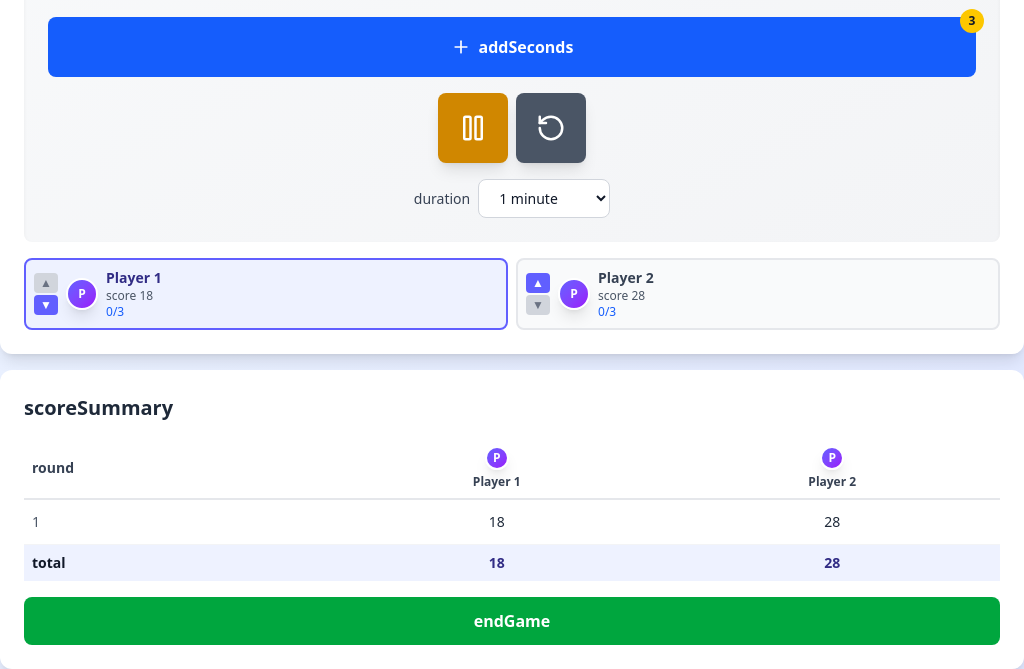
Test: ActiveGameView › closes edit input on Enter key
(page scrolled)
Click on a past score to edit it
Click the text "18".
click(497, 522)  # box [489, 512, 505, 531]
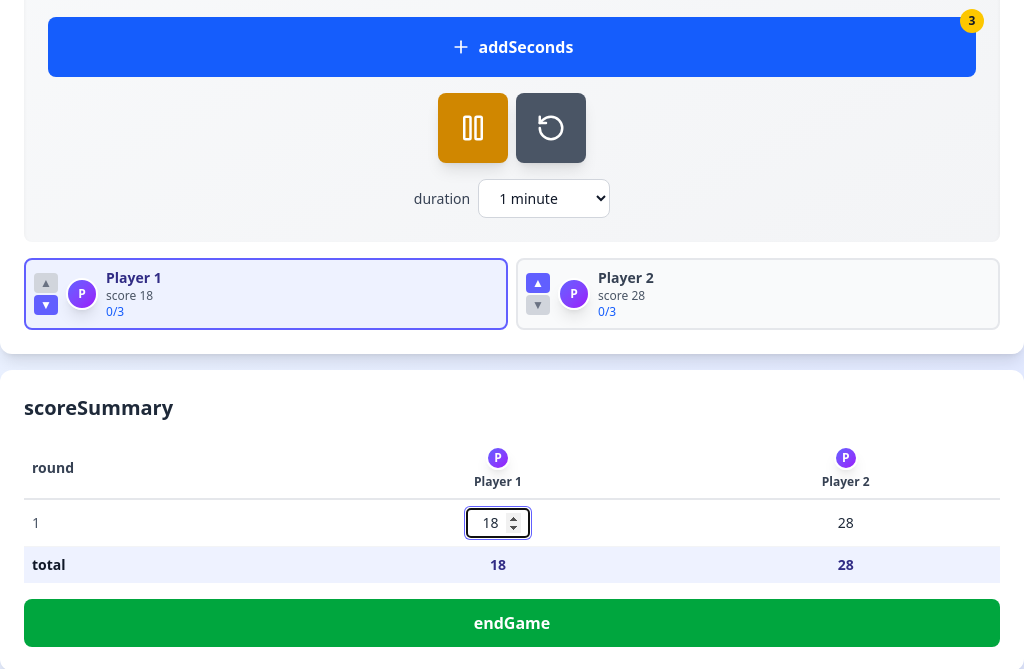
Press Enter in the number field, box [466, 508, 530, 538]
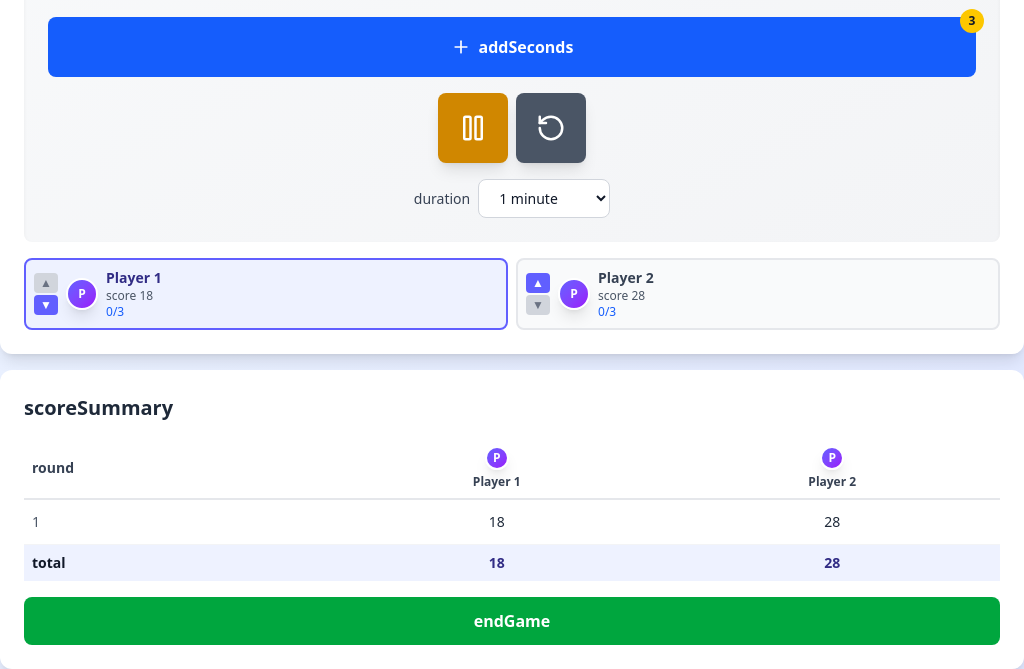
Check: the text "18" is shown, box [489, 512, 505, 531]
